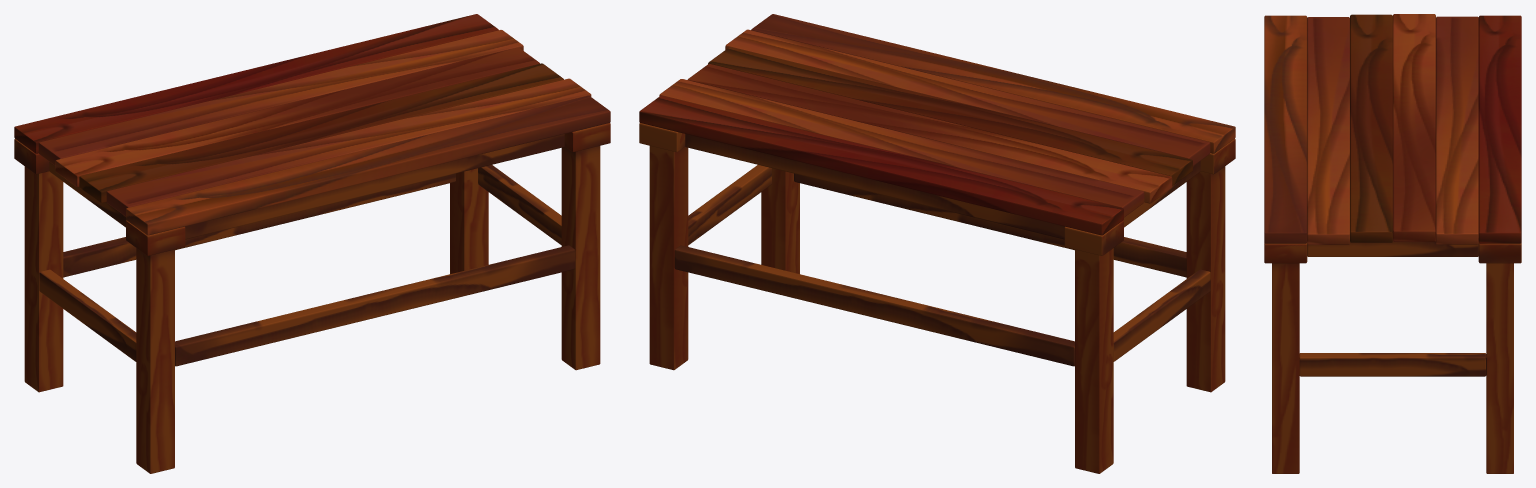
The model's file is Table.fbx.
3 renders of one model, left to right at view 1: azimuth 30°, elevation 25°; view 2: azimuth 150°, elevation 25°; view 3: azimuth 270°, elevation 25°, orthographic. The views are drawn at different scales.
Visible parts, largest first — view 1: Village_Table_Small; view 2: Village_Table_Small; view 3: Village_Table_Small.
Boxes of the visible parts, left/top/right/bottom form: Village_Table_Small: left=14, top=14, right=610, bottom=473; Village_Table_Small: left=639, top=14, right=1235, bottom=473; Village_Table_Small: left=1264, top=14, right=1521, bottom=473.
Bounding box in the file's own units: 9.47 × 4.9 × 4.67.
Materials: 1 (1 with a texture image).
